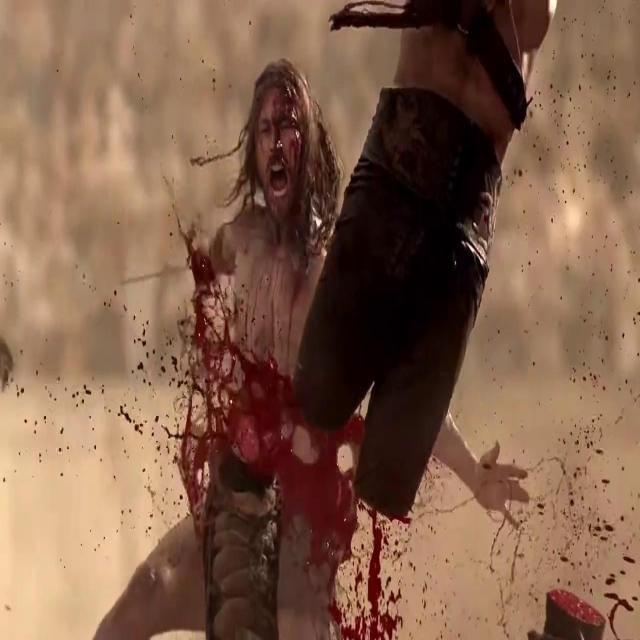flood: (152, 229, 451, 640)
